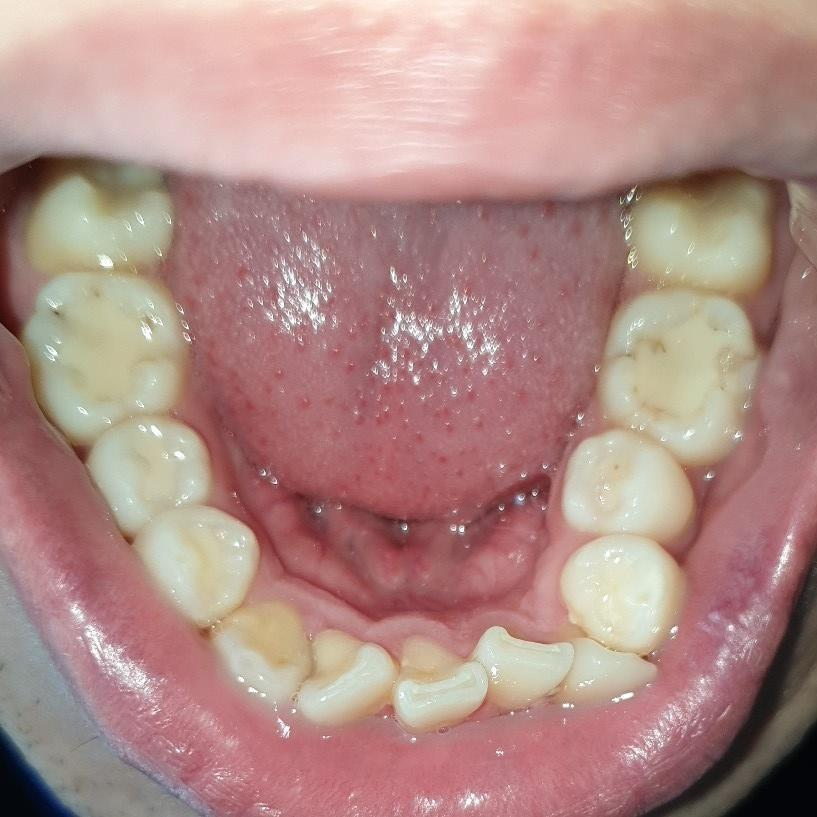Crowding: (289, 619, 569, 734)
